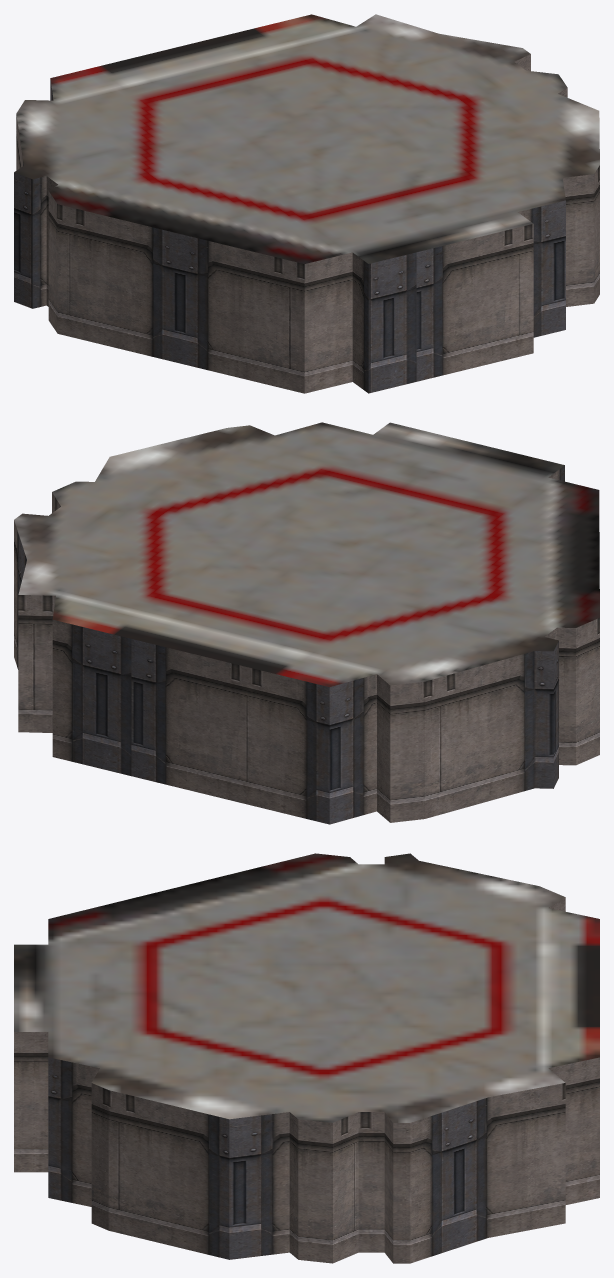
File: bsealed_light_46.glb
3 renders of one model, top to bottom at view 1: azimuth 30°, elevation 25°; view 2: azimuth 150°, elevation 25°; view 3: azimuth 270°, elevation 25°, orthographic. The views are drawn at different scales.
Visible parts, largest first — view 1: buildings/saxarba/bsealed_light/bsealed_light_46; view 2: buildings/saxarba/bsealed_light/bsealed_light_46; view 3: buildings/saxarba/bsealed_light/bsealed_light_46.
Part boxes in pixels (x1,y1,x2,y2): buildings/saxarba/bsealed_light/bsealed_light_46: [14, 14, 599, 393]; buildings/saxarba/bsealed_light/bsealed_light_46: [14, 422, 599, 824]; buildings/saxarba/bsealed_light/bsealed_light_46: [14, 853, 599, 1263].
Size of the model in its own units: 74 by 18 by 68.
